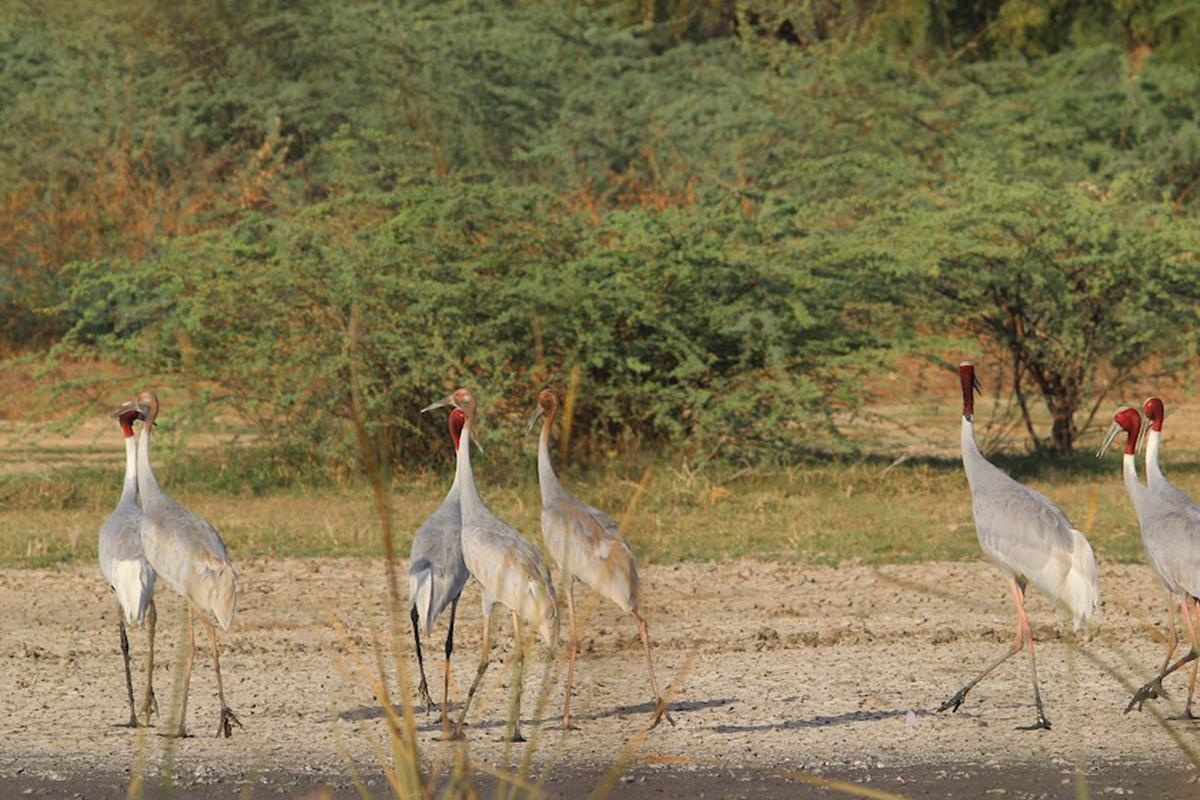crane: (525, 383, 691, 765), (944, 352, 1090, 733), (419, 378, 551, 753), (129, 388, 245, 747), (1101, 406, 1200, 764), (91, 395, 169, 737), (411, 412, 474, 746), (1144, 390, 1200, 700)
